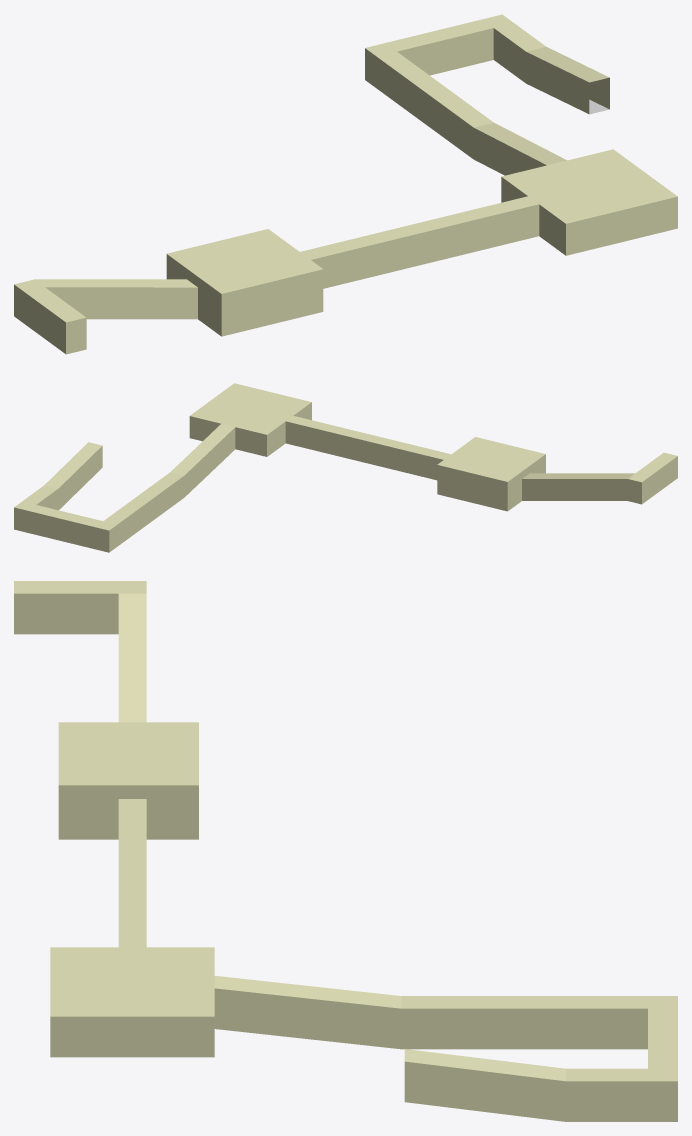
File: Corridor.fbx
The picture shows the model from 3 angles, top to bottom: view 1: azimuth 30°, elevation 25°; view 2: azimuth 150°, elevation 25°; view 3: azimuth 270°, elevation 25°; orthographic projection. The views are drawn at different scales.
Visible parts, largest first — view 1: Cube.063; view 2: Cube.063; view 3: Cube.063.
Part boxes in pixels (bbox=[...]): Cube.063: bbox=[14, 14, 677, 354]; Cube.063: bbox=[14, 383, 677, 552]; Cube.063: bbox=[14, 581, 677, 1121].
Bounding box in the file's own units: 13700 × 1600 × 8887.
